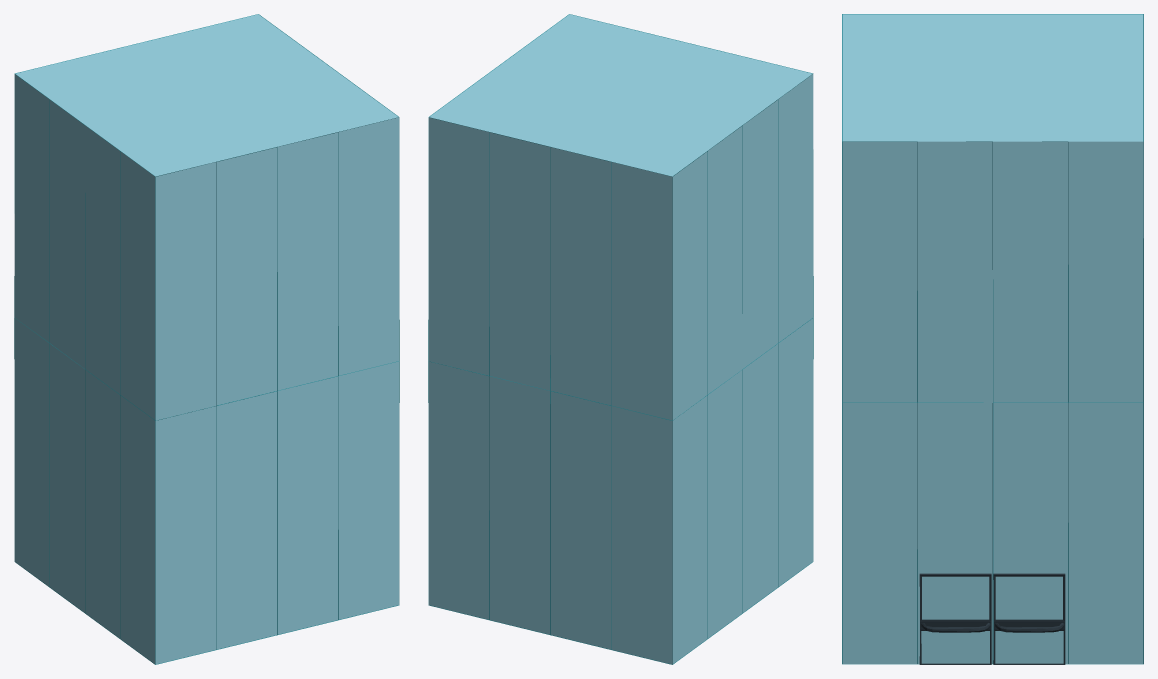
The model's file is WizOfficeShort.fbx.
The picture shows the model from 3 angles, left to right: view 1: azimuth 30°, elevation 25°; view 2: azimuth 150°, elevation 25°; view 3: azimuth 270°, elevation 25°; orthographic projection. The views are drawn at different scales.
Visible parts, largest first — view 1: GlassBuilding.001; view 2: GlassBuilding.001; view 3: GlassBuilding.001.
Boxes of the visible parts, <box> form: GlassBuilding.001: <box>14,14,399,664</box>; GlassBuilding.001: <box>428,14,813,664</box>; GlassBuilding.001: <box>842,14,1143,664</box>.
Size of the model in its own units: 1701 by 3075 by 1609.
